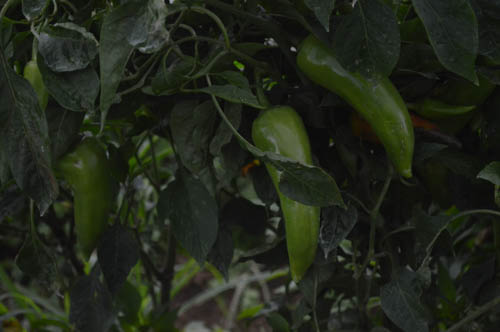ChiliPepper: (291, 36, 420, 178), (245, 106, 324, 280), (56, 147, 110, 266)
